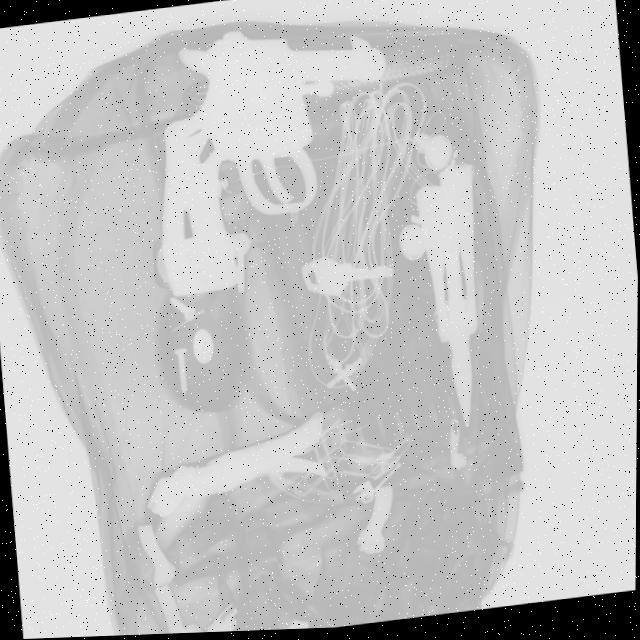knife: (413, 159, 494, 430)
pistol: (140, 12, 404, 300)
